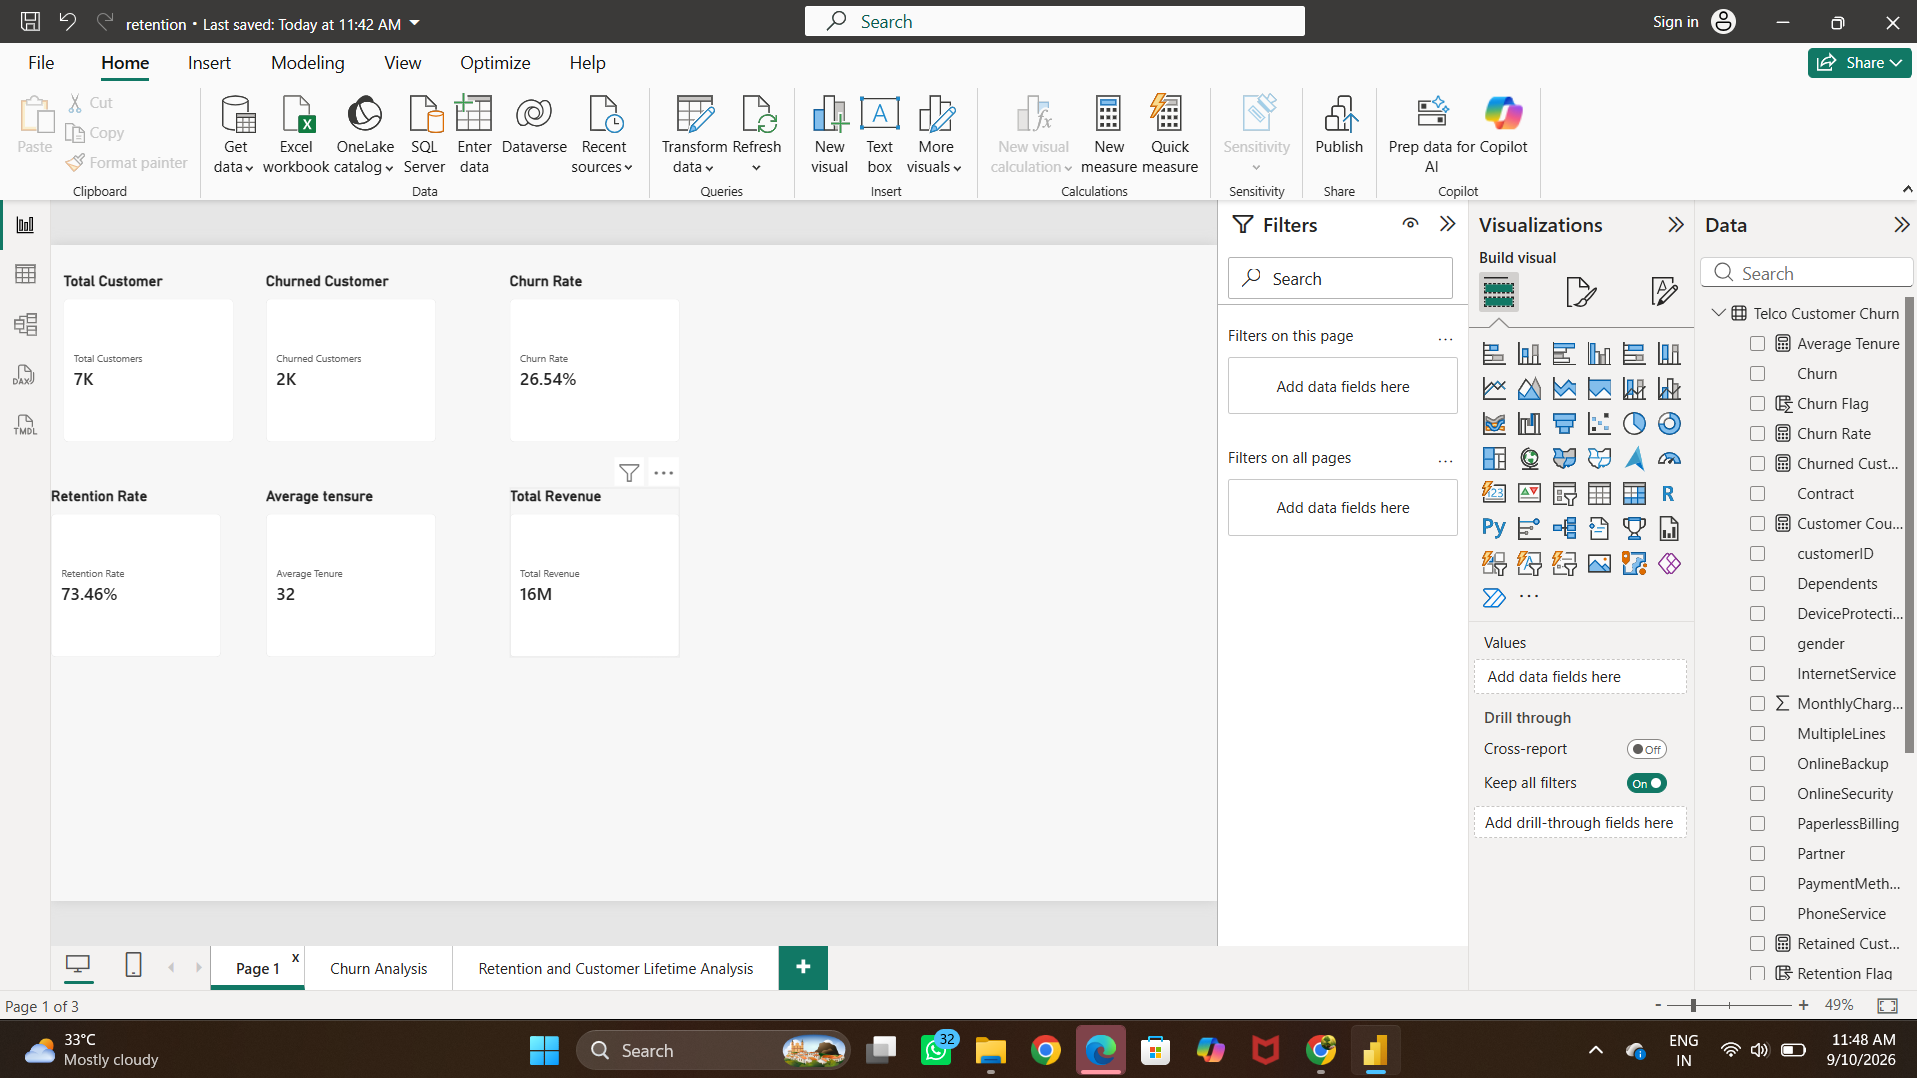

The dashboard page shown, as its layout file describes it:
{"tool":"powerbi","page":{"name":"Page 1","canvas":[1920,1080],"ordinal":0},"visuals":[{"type":"cardVisual","title":"Total Customer","fields":{"Data":["Telco Customer Churn.Total Customers"]},"box":[20.6,45.3,280,280],"z":0},{"type":"cardVisual","title":"Churned Customer","fields":{"Data":["Telco Customer Churn.Churned Customers"]},"box":[354,45.3,280,280],"z":1000},{"type":"cardVisual","title":"Churn Rate","fields":{"Data":["Telco Customer Churn.Churn Rate"]},"box":[755.4,45.3,280,280],"z":2000},{"type":"cardVisual","title":"Retention Rate","fields":{"Data":["Telco Customer Churn.Retention Rate"]},"box":[0,399.3,280,280],"z":3000},{"type":"cardVisual","title":"Average tensure","fields":{"Data":["Telco Customer Churn.Average Tenure"]},"box":[354,399.3,280,280],"z":4000},{"type":"cardVisual","title":"Total Revenue","fields":{"Data":["Telco Customer Churn.Total Revenue"]},"box":[755.4,399.3,280,280],"z":5000}]}

Visuals, with their boxes on the page's 1920x1080 design canvas (x1, y1, x2, y2). These are canvas units, not pixel positions in the 1917x1078 screenshot, which may show the page scaled, cropped or inside an application window:
"Total Customer" cardVisual: detection(21, 45, 301, 325)
"Churned Customer" cardVisual: detection(354, 45, 634, 325)
"Churn Rate" cardVisual: detection(755, 45, 1035, 325)
"Retention Rate" cardVisual: detection(0, 399, 280, 679)
"Average tensure" cardVisual: detection(354, 399, 634, 679)
"Total Revenue" cardVisual: detection(755, 399, 1035, 679)
